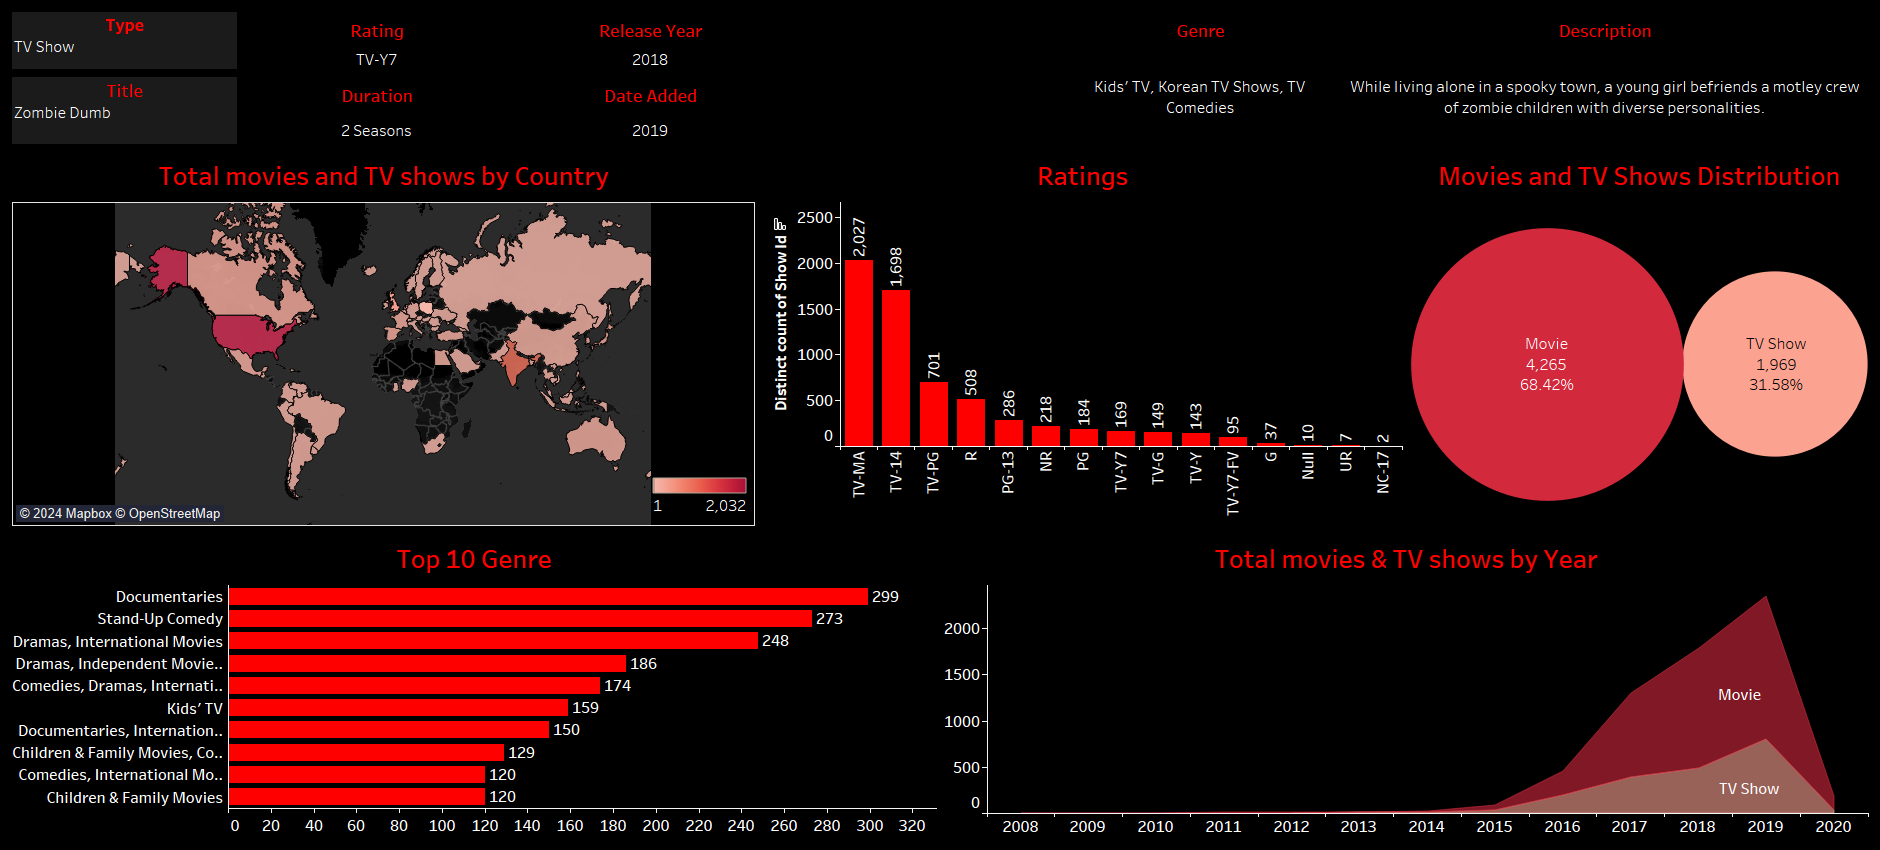

Layout of this report page (visuals, bound fields, positions):
{"tool":"tableau","page":{"name":"Netflix","canvas":[1880,850],"ordinal":0},"visuals":[{"type":"filter","title":"Description","param":"[federated.18r4g1n0uy3qzl1e4x1uk1j047lc].[none:type:nk]","box":[8,8,233,64.9]},{"type":"worksheet","title":"Rating","mark":"Automatic","box":[241,8,271.7,64.9]},{"type":"worksheet","title":"Release Year","mark":"Automatic","box":[512.6,8,275.1,64.9]},{"type":"image","param":"C:/Users/KAILASH/Downloads/Netflix Logo.jpg","box":[787.8,8,275.2,140.4]},{"type":"worksheet","title":"Genre","mark":"Automatic","box":[1062.9,8,275.1,140.4]},{"type":"worksheet","title":"Description","mark":"Automatic","box":[1338.1,8,533.9,140.4]},{"type":"filter","title":"Description","param":"[federated.18r4g1n0uy3qzl1e4x1uk1j047lc].[none:title:nk]","box":[8,72.9,233,75.5]},{"type":"worksheet","title":"Duration","mark":"Automatic","box":[241,72.9,271.7,75.5]},{"type":"worksheet","title":"Date Added","mark":"Automatic","box":[512.6,72.9,275.1,75.5]},{"type":"worksheet","title":"By Country","mark":"Multipolygon","box":[8,148.4,750.6,382.2]},{"type":"worksheet","title":"Ratings","mark":"Automatic","rows":["show_id"],"cols":["rating"],"box":[758.6,148.4,647.4,382.2]},{"type":"worksheet","title":"Movies and TV Shows Distribution","mark":"Circle","box":[1406,148.4,466,382.2]},{"type":"legend","title":"By Country","param":"[federated.18r4g1n0uy3qzl1e4x1uk1j047lc].[ctd:show_id:qk]","box":[648.6,473.9,102.3,45.7]},{"type":"worksheet","title":"Top 10 Genre","mark":"Automatic","rows":["listed_in"],"cols":["show_id"],"box":[8,530.6,932,311.4]},{"type":"worksheet","title":"Total movies & TV shows by Year","mark":"Area","rows":["show_id"],"cols":["date_added"],"box":[940,530.6,932,311.4]}]}

Visuals, with their boxes in screenshot pixels (x1, y1, x2, y2), scaled from the page's 1880x850 canvas onto the 1880x850 screenshot:
"Description" filter: [8, 8, 241, 73]
"Rating" worksheet: [241, 8, 513, 73]
"Release Year" worksheet: [513, 8, 788, 73]
image: [788, 8, 1063, 148]
"Genre" worksheet: [1063, 8, 1338, 148]
"Description" worksheet: [1338, 8, 1872, 148]
"Description" filter: [8, 73, 241, 148]
"Duration" worksheet: [241, 73, 513, 148]
"Date Added" worksheet: [513, 73, 788, 148]
"By Country" worksheet (Multipolygon marks): [8, 148, 759, 531]
"Ratings" worksheet: [759, 148, 1406, 531]
"Movies and TV Shows Distribution" worksheet (Circle marks): [1406, 148, 1872, 531]
"By Country" legend: [649, 474, 751, 520]
"Top 10 Genre" worksheet: [8, 531, 940, 842]
"Total movies & TV shows by Year" worksheet (Area marks): [940, 531, 1872, 842]
